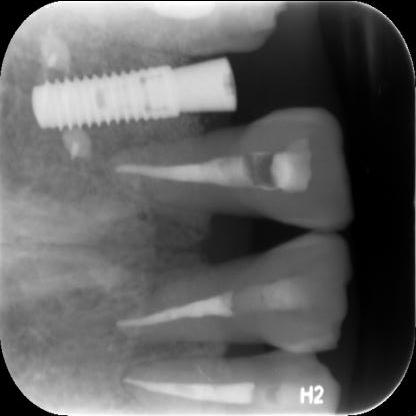ITI: (28, 53, 184, 135)
